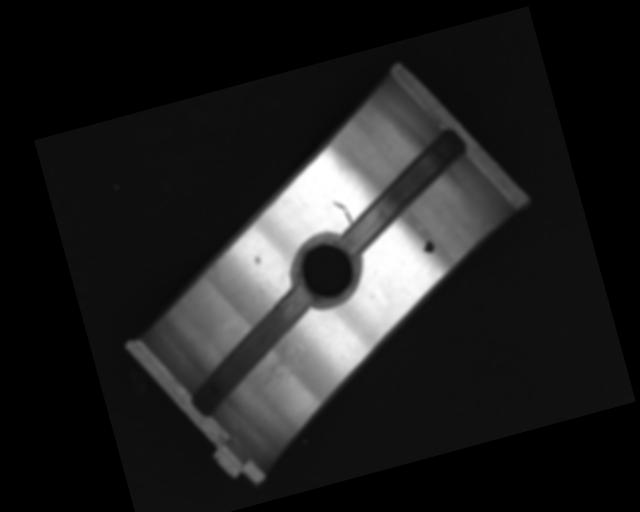blot: (419, 236, 436, 254)
bruise: (253, 254, 262, 266)
gap: (170, 283, 332, 418), (326, 128, 482, 253)
hole: (286, 229, 367, 309)
nick: (332, 198, 353, 228)
scratch: (235, 331, 311, 401)
